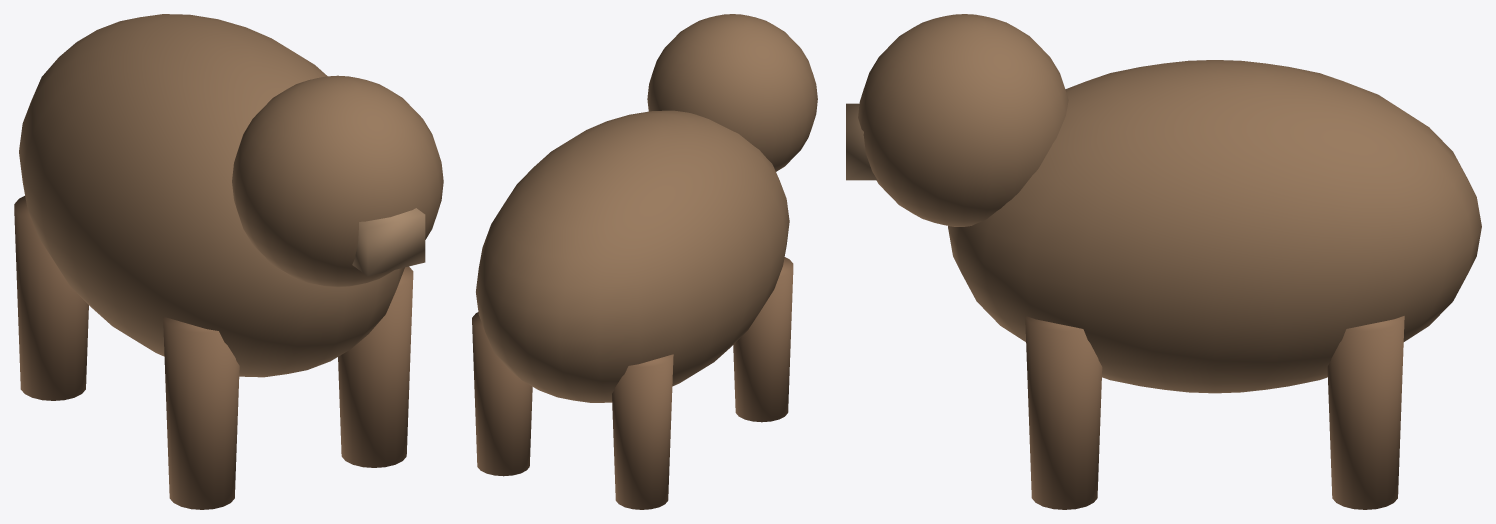
The model's file is bear.glb.
3 renders of one model, left to right at view 1: azimuth 30°, elevation 25°; view 2: azimuth 150°, elevation 25°; view 3: azimuth 270°, elevation 25°, orthographic. The views are drawn at different scales.
Parts seen in each view (by area): view 1: body, head, leg_-0.3_0.45, leg_0.3_0.45, leg_-0.3_-0.45, snout; view 2: body, head, leg_-0.3_-0.45, leg_0.3_-0.45, leg_-0.3_0.45; view 3: body, head, leg_0.3_0.45, leg_0.3_-0.45, snout.
Part boxes in pixels (box(x1,y1,x2,y2)): body: box(19, 14, 404, 377); head: box(232, 75, 443, 287); leg_-0.3_0.45: box(163, 316, 239, 509); leg_0.3_0.45: box(338, 266, 413, 467); leg_-0.3_-0.45: box(14, 196, 88, 400); snout: box(352, 208, 425, 276); body: box(476, 110, 789, 402); head: box(647, 14, 817, 171); leg_-0.3_-0.45: box(612, 354, 673, 509); leg_0.3_-0.45: box(472, 312, 532, 476); leg_-0.3_0.45: box(733, 257, 793, 422); body: box(948, 60, 1481, 393); head: box(858, 14, 1068, 226); leg_0.3_0.45: box(1025, 316, 1102, 509); leg_0.3_-0.45: box(1327, 316, 1404, 509); snout: box(846, 103, 877, 180).
Size of the model in its own units: 1 by 1.42 by 1.91.
